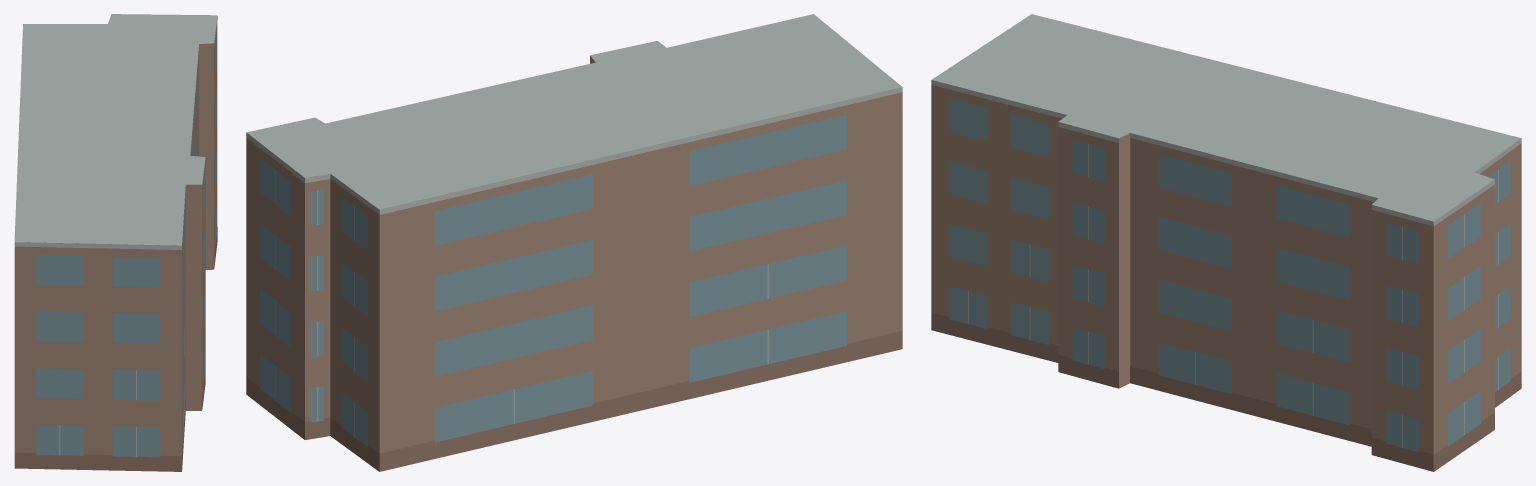
The model's file is survey-upis-32751857.glb.
The picture shows the model from 3 angles, left to right: view 1: azimuth 30°, elevation 25°; view 2: azimuth 150°, elevation 25°; view 3: azimuth 270°, elevation 25°; orthographic projection. The views are drawn at different scales.
Visible parts, largest first — view 1: survey-upis-32751857.tmp; view 2: survey-upis-32751857.tmp; view 3: survey-upis-32751857.tmp.
Boxes of the visible parts, <box> form: survey-upis-32751857.tmp: <box>14,14,217,471</box>; survey-upis-32751857.tmp: <box>246,14,902,471</box>; survey-upis-32751857.tmp: <box>931,14,1521,471</box>.
Size of the model in its own units: 21.89 by 12.3 by 26.3.
